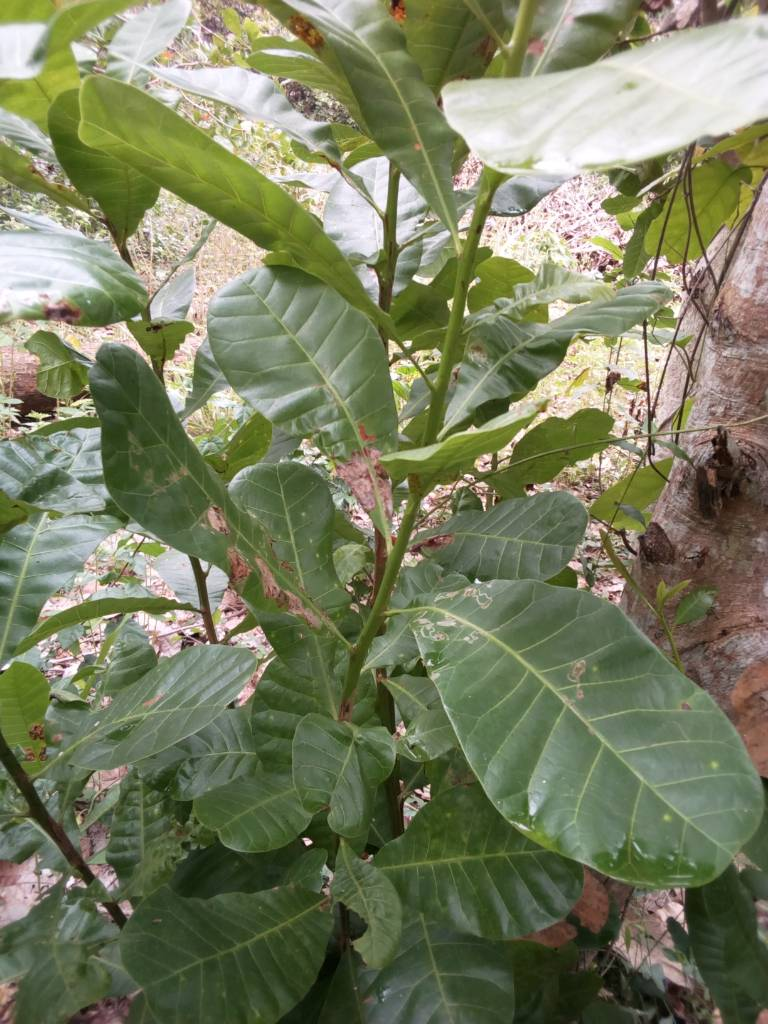Bactériose: (91, 355, 310, 619)
